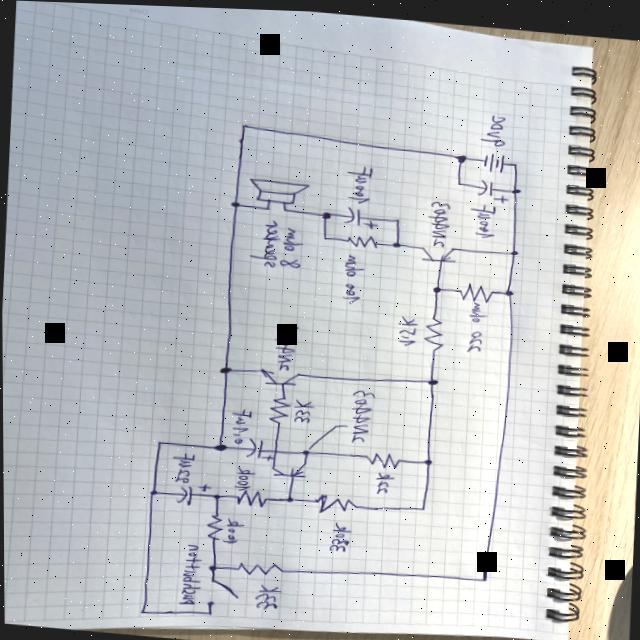capacitor: (175, 477, 212, 507), (343, 202, 380, 227), (477, 174, 510, 201), (245, 436, 275, 459)
crossover: (269, 443, 280, 453)
junction: (214, 440, 228, 451), (455, 149, 468, 160), (503, 283, 516, 294), (421, 452, 434, 463), (219, 363, 232, 373), (283, 492, 295, 502), (428, 374, 440, 383), (431, 281, 443, 290), (230, 198, 242, 207), (148, 486, 158, 496), (208, 561, 218, 571), (321, 208, 332, 217), (211, 490, 222, 499), (391, 237, 402, 246), (509, 244, 520, 253), (301, 445, 312, 454), (240, 119, 250, 128), (479, 571, 489, 580), (204, 607, 214, 616), (511, 183, 521, 191), (511, 156, 519, 165), (264, 202, 274, 209), (321, 232, 329, 239), (418, 503, 427, 509), (156, 438, 164, 444), (138, 608, 146, 614), (455, 176, 463, 182), (282, 205, 290, 211), (394, 214, 401, 220)
resistor: (313, 491, 358, 514), (234, 556, 285, 576), (421, 311, 447, 349), (457, 276, 495, 301), (363, 446, 402, 468), (267, 391, 293, 424), (233, 486, 270, 507), (204, 510, 225, 540), (344, 230, 380, 247)
source: (478, 147, 507, 171)
switch: (203, 574, 239, 607)
text: (348, 383, 380, 442), (248, 215, 282, 267), (177, 540, 203, 605), (422, 195, 452, 245), (464, 195, 497, 236), (465, 296, 490, 350), (272, 320, 298, 369), (345, 162, 375, 202), (342, 250, 365, 302), (478, 107, 508, 144), (279, 224, 305, 266), (229, 405, 253, 444), (170, 450, 196, 484), (327, 516, 353, 550), (253, 580, 282, 610), (396, 311, 421, 345), (230, 462, 257, 490), (221, 515, 243, 545), (292, 394, 315, 422), (372, 467, 395, 494)
transistor: (269, 456, 308, 481), (260, 365, 303, 386), (418, 240, 459, 261)
